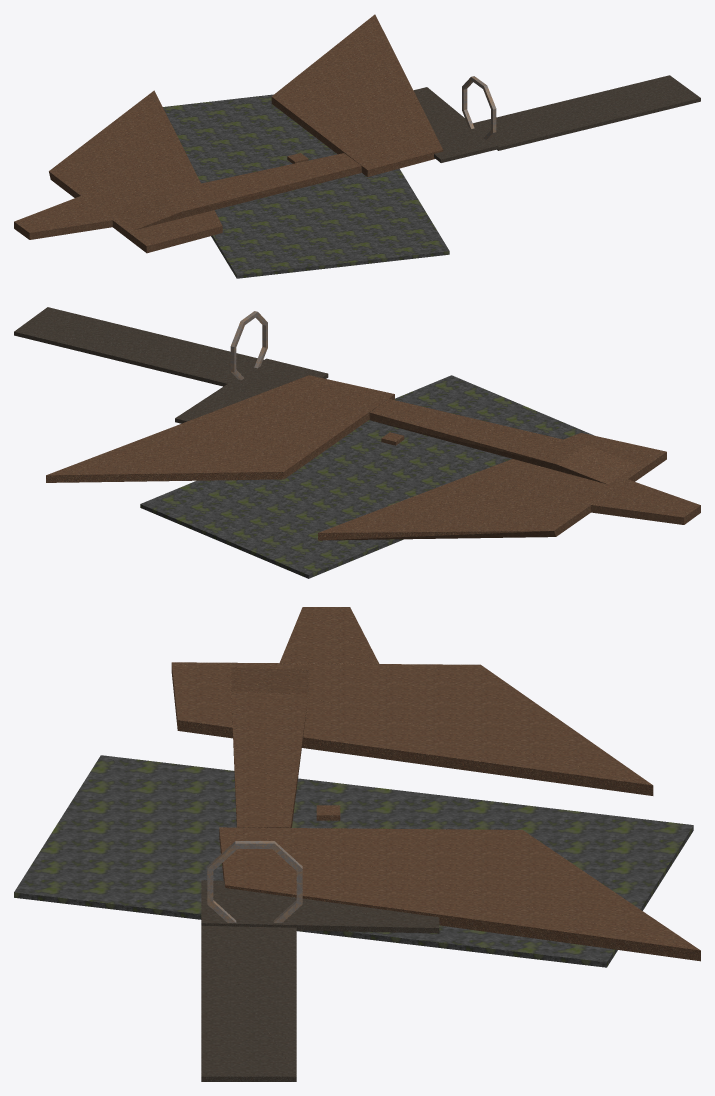
3 renders of one model, top to bottom at view 1: azimuth 30°, elevation 25°; view 2: azimuth 150°, elevation 25°; view 3: azimuth 270°, elevation 25°, orthographic. The views are drawn at different scales.
Parts seen in each view (by area): view 1: entity0_brush6, entity0_brush4, entity0_brush2, entity0_brush8, entity0_brush3, entity0_brush7, entity0_brush0; view 2: entity0_brush6, entity0_brush4, entity0_brush2, entity0_brush8, entity0_brush3, entity0_brush0, entity0_brush7; view 3: entity0_brush6, entity0_brush4, entity0_brush2, entity0_brush8, entity0_brush3, entity0_brush7, entity0_brush0.
Boxes of the visible parts, x1,y1,x2,y2 form: entity0_brush6: (163,94,449,278); entity0_brush4: (271,14,443,176); entity0_brush2: (49,90,222,253); entity0_brush8: (473,75,700,150); entity0_brush3: (112,153,361,230); entity0_brush7: (413,87,498,162); entity0_brush0: (14,195,114,239); entity0_brush6: (140,375,593,578); entity0_brush4: (46,375,394,482); entity0_brush2: (318,433,666,540); entity0_brush8: (14,307,263,386); entity0_brush3: (369,399,638,484); entity0_brush0: (590,479,700,524); entity0_brush7: (175,358,328,423); entity0_brush6: (14,755,693,967); entity0_brush4: (219,827,700,961); entity0_brush2: (171,662,653,795); entity0_brush8: (201,925,296,1081); entity0_brush3: (231,667,308,827); entity0_brush7: (201,880,439,933); entity0_brush0: (279,607,379,664).
Size of the model in its own units: 3024 by 404 by 1848.
